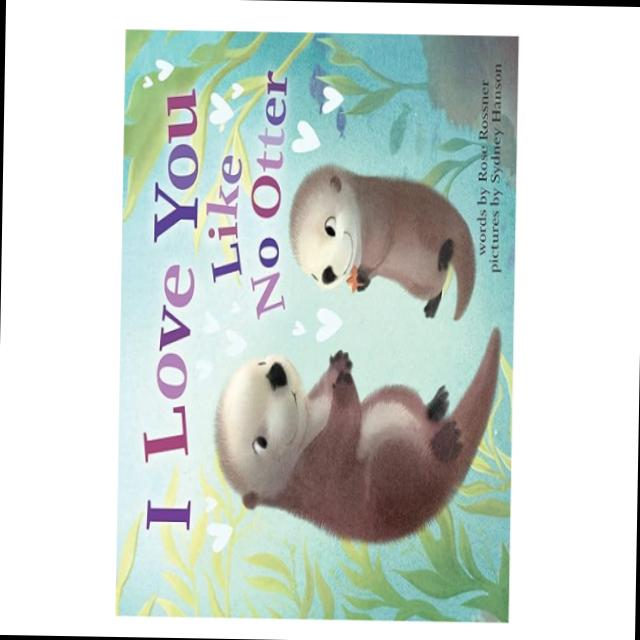titles-or-authors: (136, 58, 295, 540), (474, 75, 491, 183)
